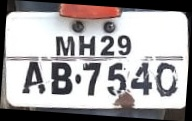character: (21, 61, 45, 94), (130, 61, 152, 96), (154, 61, 176, 96), (50, 61, 72, 94), (107, 61, 126, 97), (82, 61, 101, 96), (55, 35, 74, 56), (78, 35, 95, 55), (117, 34, 131, 55), (100, 35, 114, 55)
